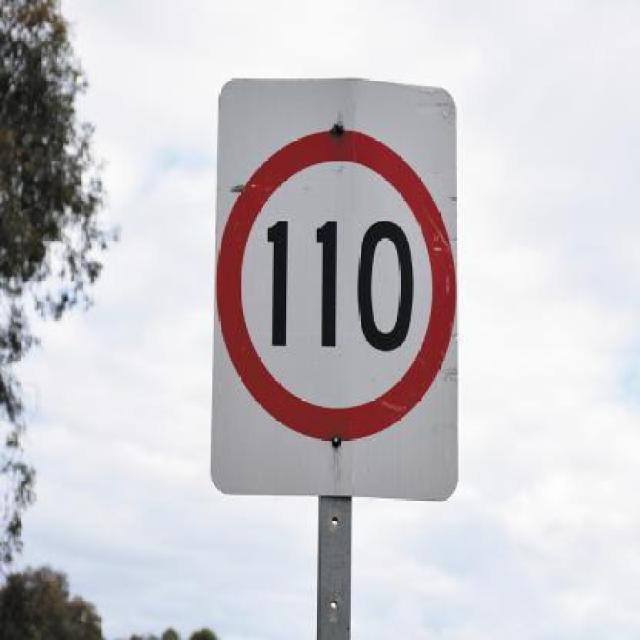speed limit 110: (216, 128, 453, 447)
